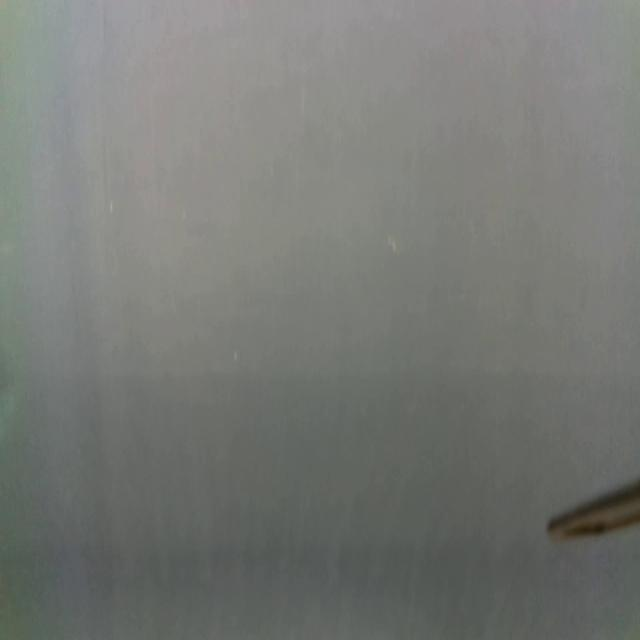color bleeding: (0, 540, 640, 606)
